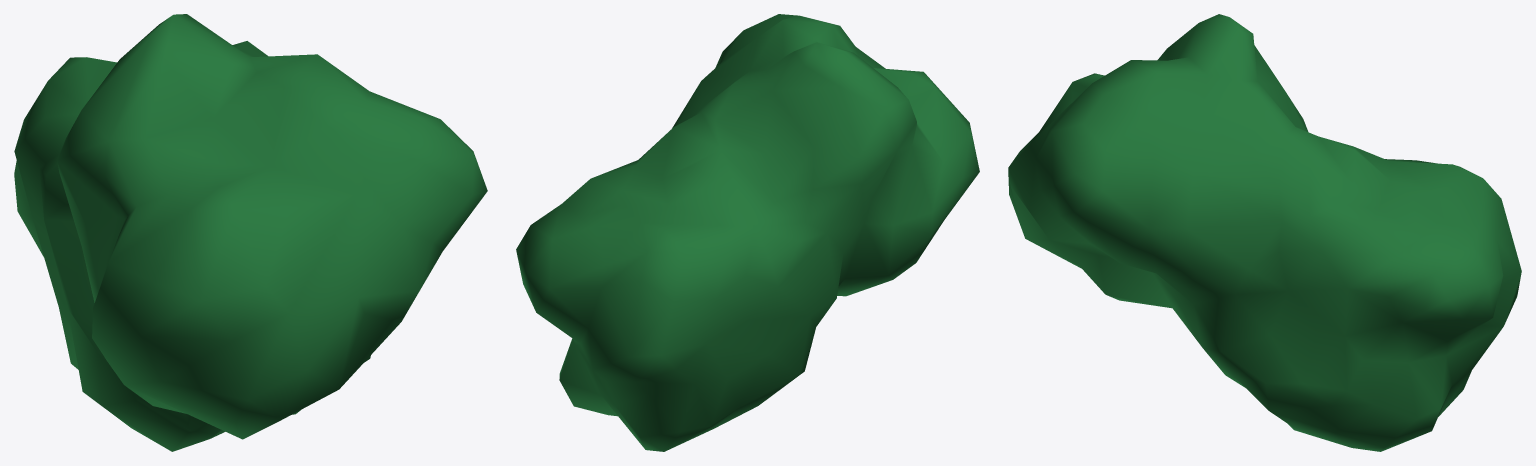
File: Mgenitalium_rbsB_2gx6_0_1_0.dae
The picture shows the model from 3 angles, left to right: view 1: azimuth 30°, elevation 25°; view 2: azimuth 150°, elevation 25°; view 3: azimuth 270°, elevation 25°; orthographic projection. The views are drawn at different scales.
Parts seen in each view (by area): view 1: CoarseMS_2gx6; view 2: CoarseMS_2gx6; view 3: CoarseMS_2gx6.
Part boxes in pixels (x1=…): CoarseMS_2gx6: x1=14, y1=14, x2=487, y2=451; CoarseMS_2gx6: x1=516, y1=14, x2=979, y2=451; CoarseMS_2gx6: x1=1008, y1=14, x2=1521, y2=451.
Size of the model in its own units: 43.01 by 49.92 by 62.06.
